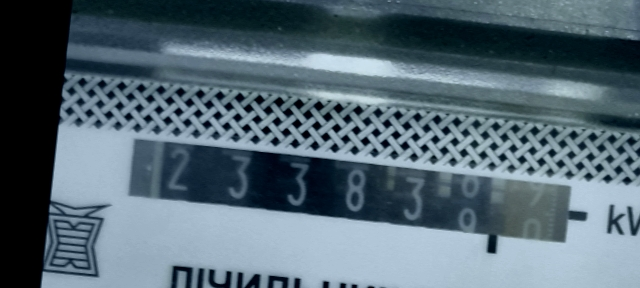0: (520, 215, 544, 243)
2: (165, 146, 194, 195)
3: (279, 158, 313, 210), (222, 151, 256, 202), (398, 174, 427, 222)
8: (339, 166, 371, 215), (457, 173, 483, 202)
9: (454, 204, 478, 236), (523, 179, 547, 211)
screen: (114, 127, 593, 268)
